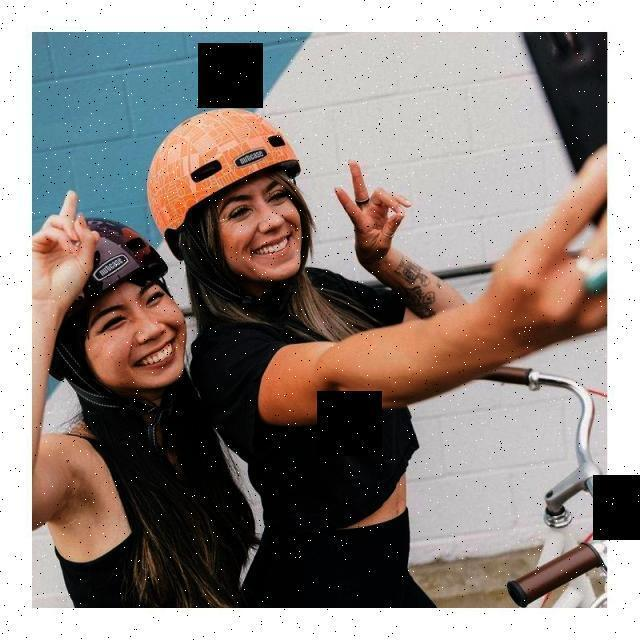helmet: (150, 108, 320, 298)
